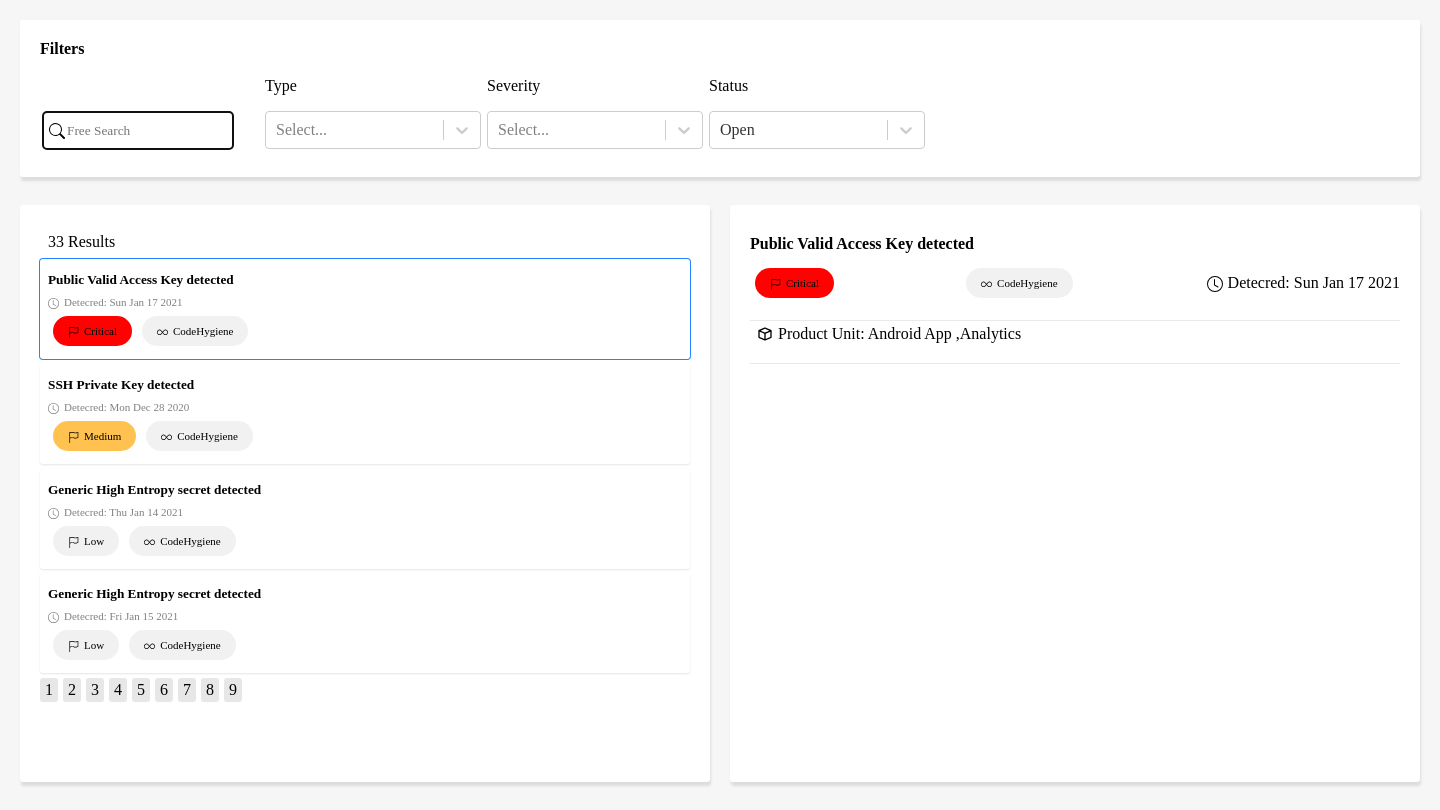
Test case: HomeScreen › testing filters
Type "criti" into the field with placeholder "Free Search" at (138, 130), box [43,112,233,149]
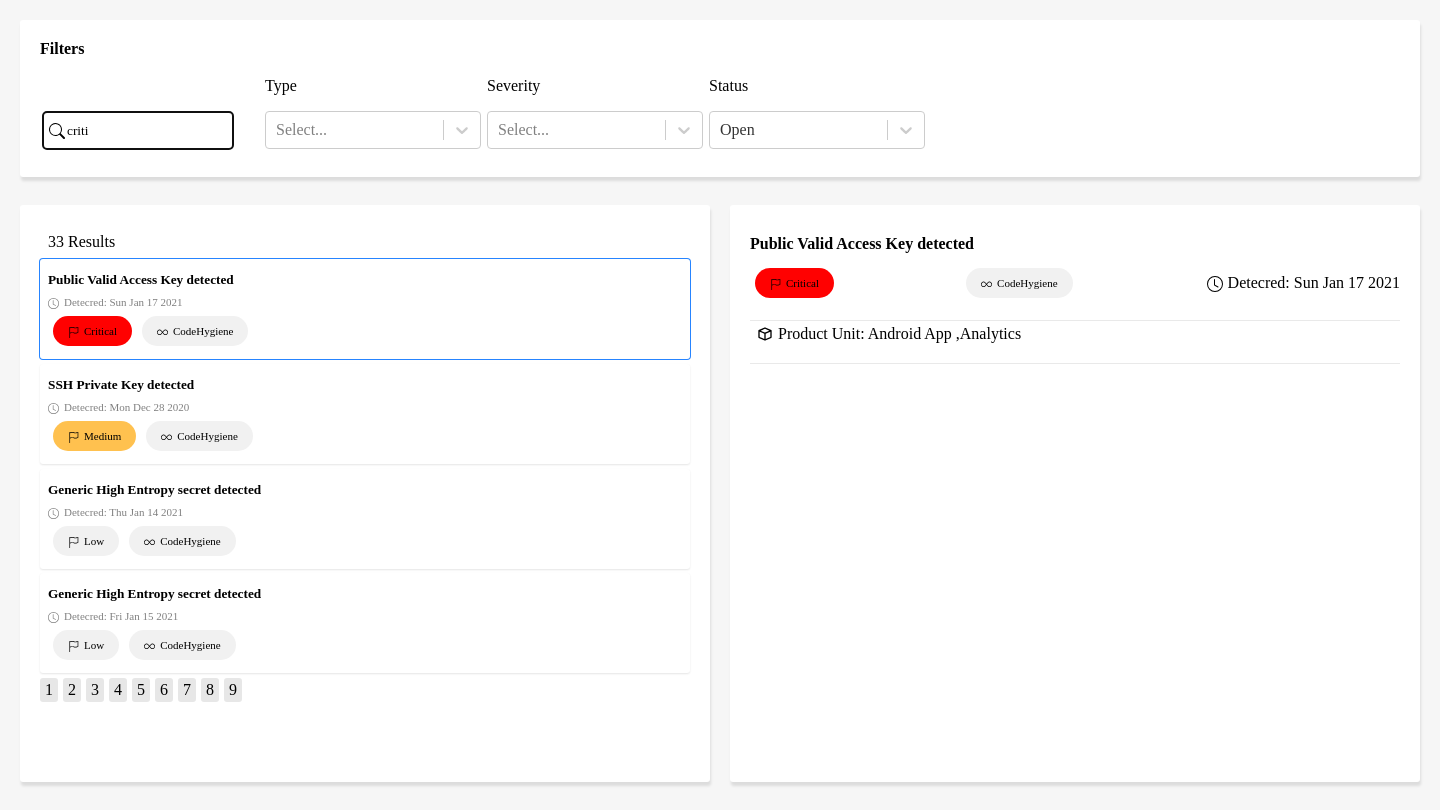
Press ArrowDown in the dropdown below "Severity", box [498,121,502,139]
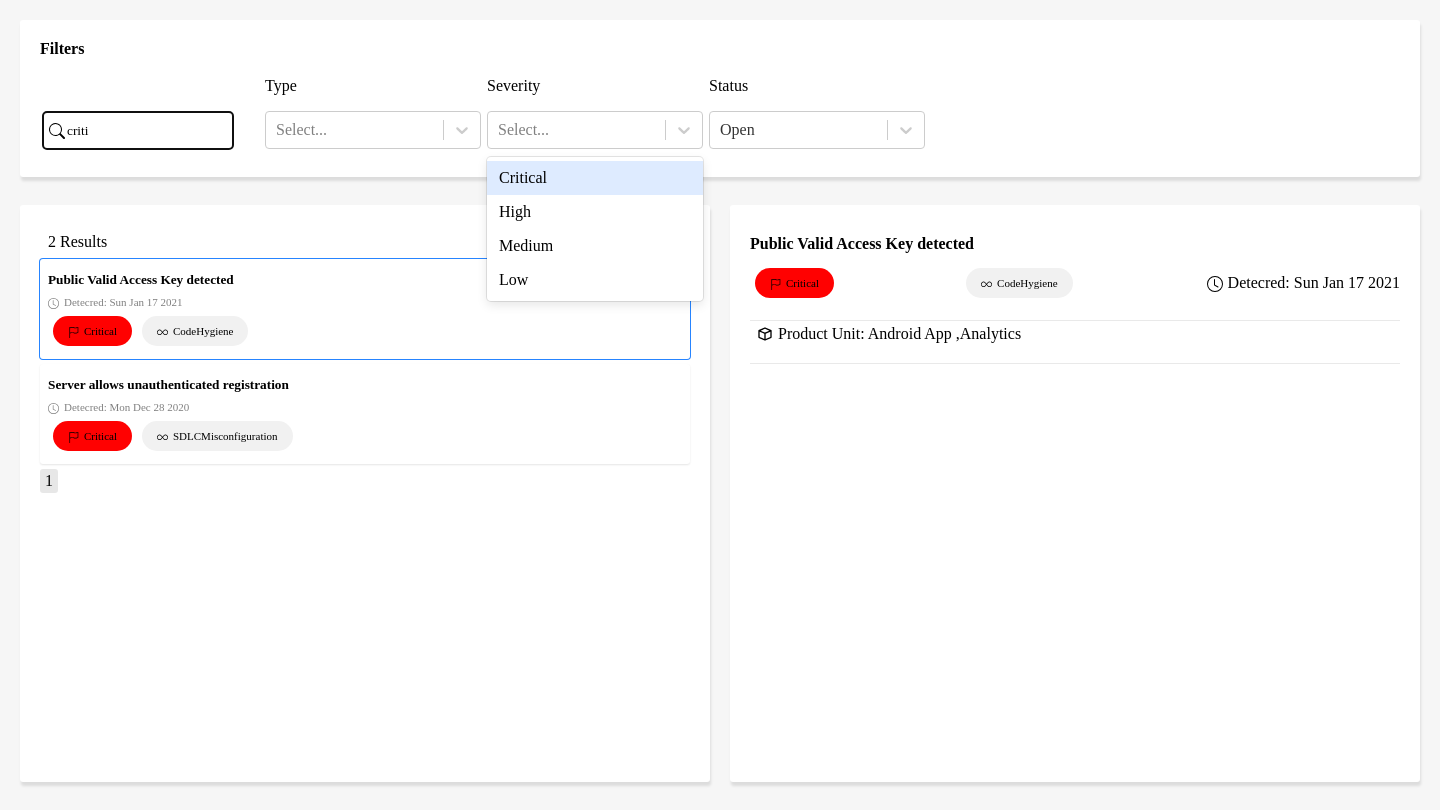
Click the option "Low" at (514, 280), box [499,271,528,288]
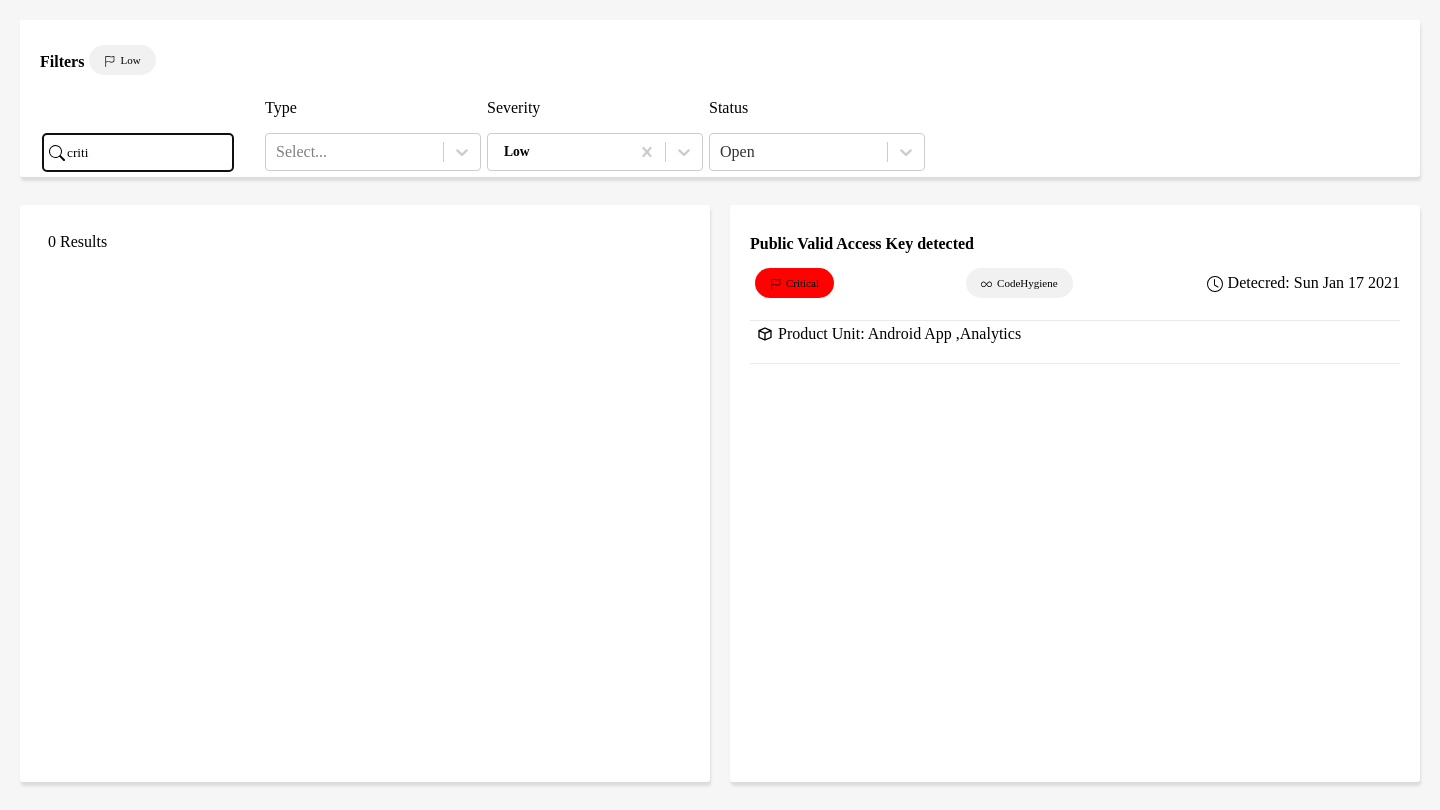
Expected: the text "0 Results" is shown, [48,233,107,250]
